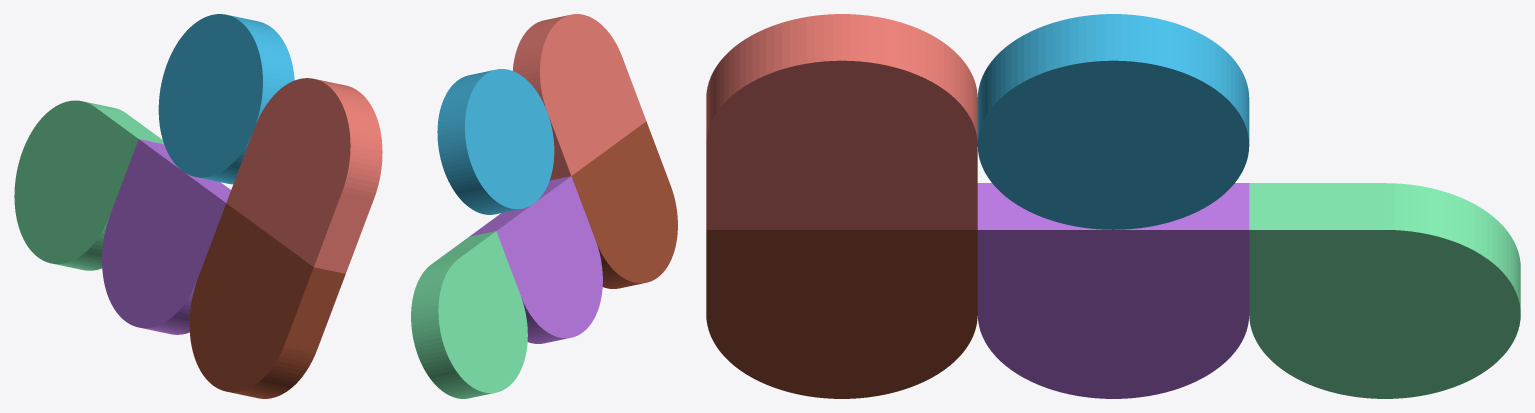
Rendered from figma.glb.
3 views of the same model, side by side, from view 1: azimuth 30°, elevation 25°; view 2: azimuth 150°, elevation 25°; view 3: azimuth 270°, elevation 25° (orthographic). The views are drawn at different scales.
Parts seen in each view (by area): view 1: figma; view 2: figma; view 3: figma.
Part boxes in pixels (bbox=[...]): figma: bbox=[14, 14, 382, 398]; figma: bbox=[411, 14, 677, 398]; figma: bbox=[706, 14, 1520, 398].
Size of the model in its own units: 2.56 by 4.84 by 8.
